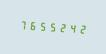five: (37, 18, 46, 33), (47, 19, 56, 34)
four: (67, 21, 76, 35)
seven: (17, 17, 26, 32)
six: (27, 18, 36, 32)
two: (77, 21, 86, 36), (57, 20, 66, 34)
